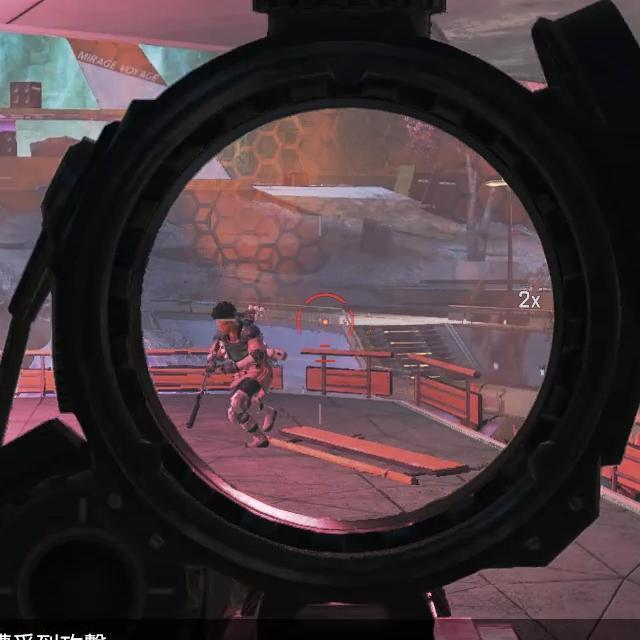avatar: (203, 300, 278, 451)
